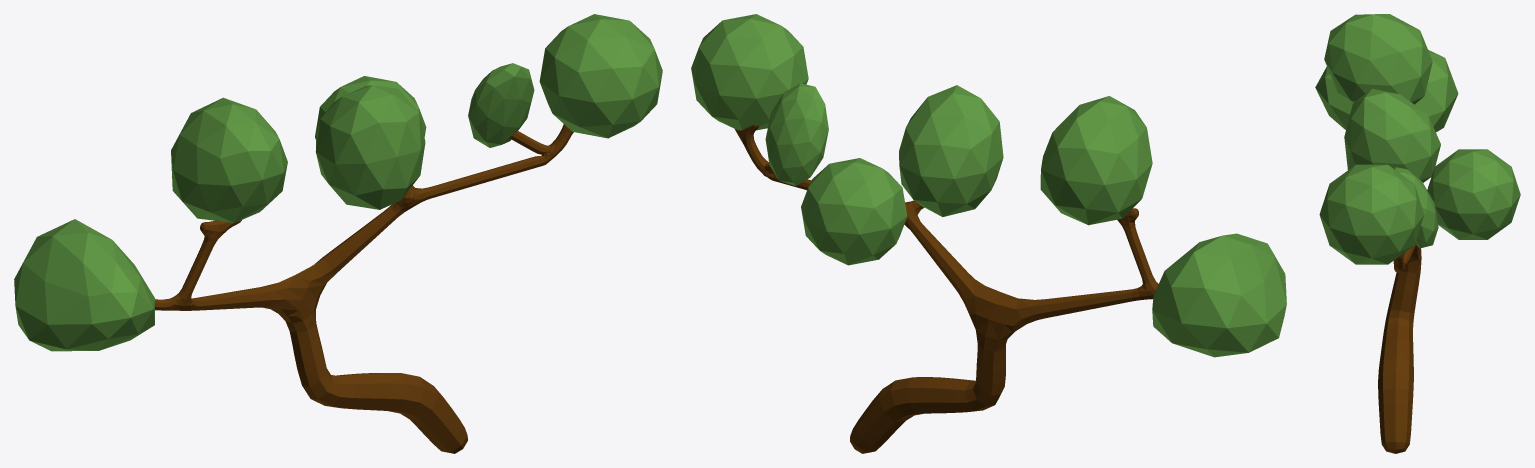
The model's file is arbreLowPoly.dae.
3 renders of one model, left to right at view 1: azimuth 30°, elevation 25°; view 2: azimuth 150°, elevation 25°; view 3: azimuth 270°, elevation 25°, orthographic. The views are drawn at different scales.
Visible parts, largest first — view 1: Plane, Icosphere, Icosphere.003, Icosphere.001, Icosphere.002, Icosphere.005, Icosphere.004; view 2: Plane, Icosphere, Icosphere.001, Icosphere.002, Icosphere.003, Icosphere.004, Icosphere.005; view 3: Icosphere.003, Icosphere.001, Icosphere.004, Icosphere.002, Plane, Icosphere, Icosphere.005.
Boxes of the visible parts, <box> form: Plane: <box>155,124,573,453</box>; Icosphere: <box>14,219,155,351</box>; Icosphere.003: <box>539,14,662,138</box>; Icosphere.001: <box>171,97,287,222</box>; Icosphere.002: <box>315,85,425,209</box>; Icosphere.005: <box>468,63,534,147</box>; Icosphere.004: <box>315,76,426,139</box>; Plane: <box>735,124,1158,453</box>; Icosphere: <box>1152,233,1286,357</box>; Icosphere.001: <box>1040,96,1152,225</box>; Icosphere.002: <box>899,85,1003,216</box>; Icosphere.003: <box>691,14,808,130</box>; Icosphere.004: <box>801,158,907,265</box>; Icosphere.005: <box>765,83,828,186</box>; Icosphere.003: <box>1319,164,1424,264</box>; Icosphere.001: <box>1324,14,1432,104</box>; Icosphere.004: <box>1427,149,1520,239</box>; Icosphere.002: <box>1344,88,1440,182</box>; Plane: <box>1378,242,1421,453</box>; Icosphere: <box>1315,50,1458,132</box>; Icosphere.005: <box>1394,167,1438,248</box>.
Size of the model in its own units: 4.84 by 1.68 by 3.11.
